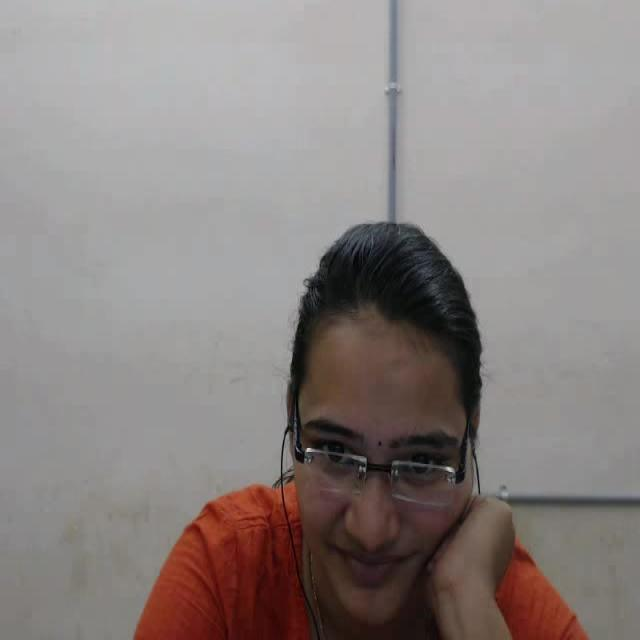Bored: (244, 180, 534, 640)
